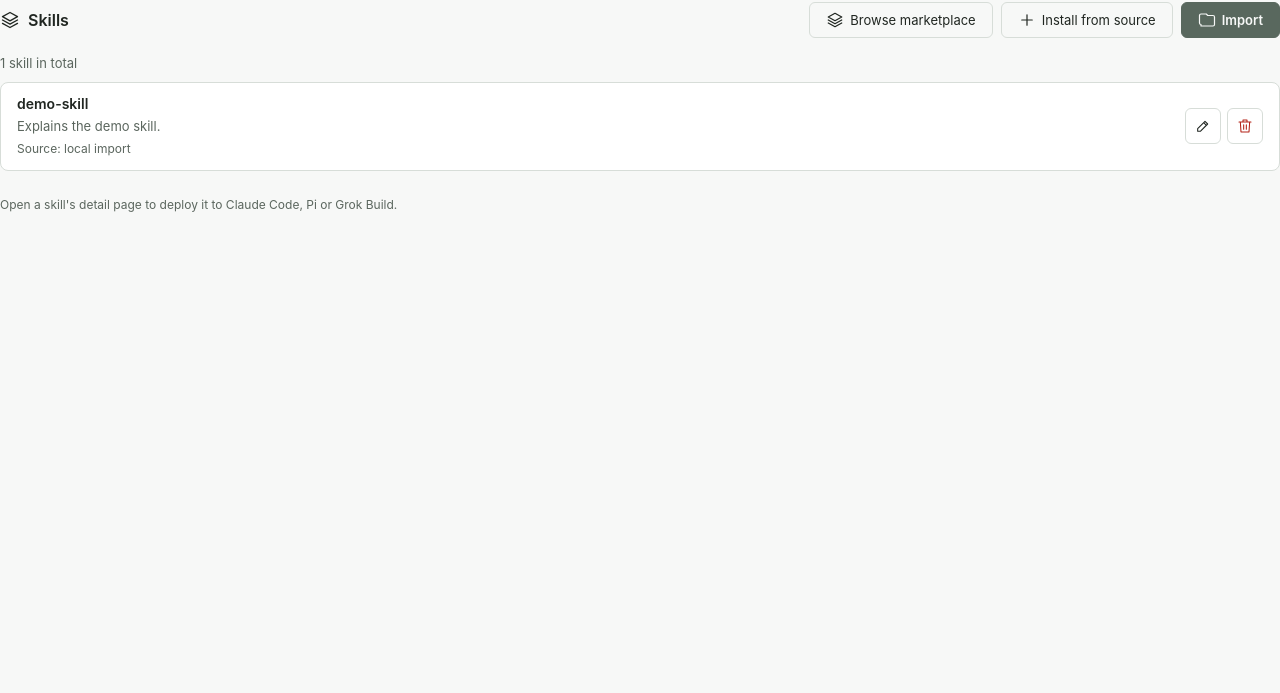
the deploy panel offers Claude Code and previews its own target
Step 1. Click the button named "Open details for demo-skill" → (1203, 126), box [1185,108,1221,144]
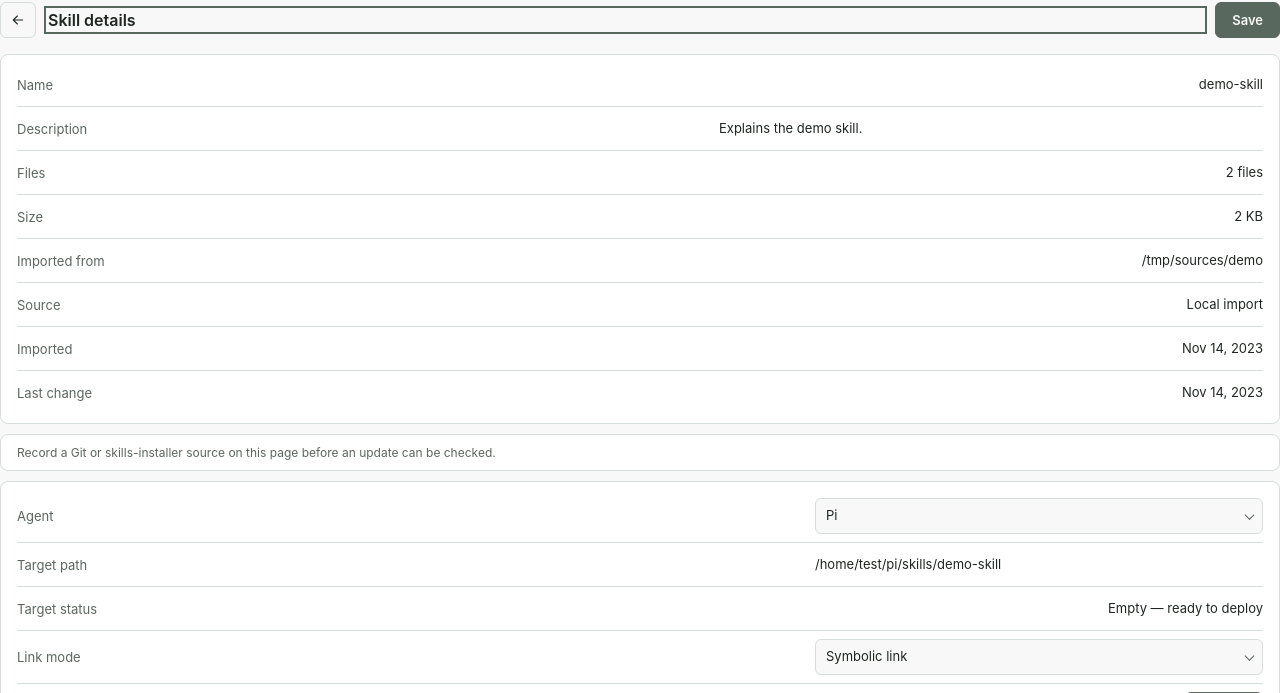
Now the text "/home/test/pi/skills/demo-skill" is shown, box [815,556,1001,572]
Step 2. Click the dropdown named "Agent" → (832, 515), box [815,498,1263,534]
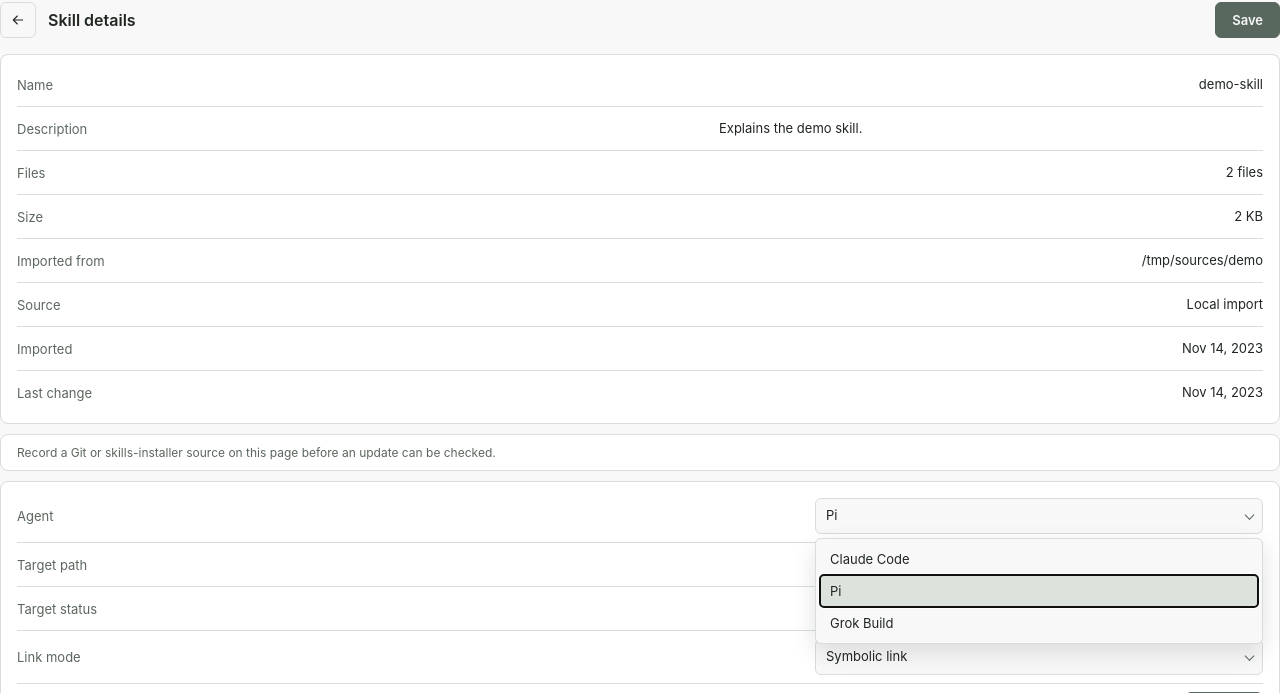
Step 3. Click the option "Claude Code" → (870, 559), box [830,551,910,567]
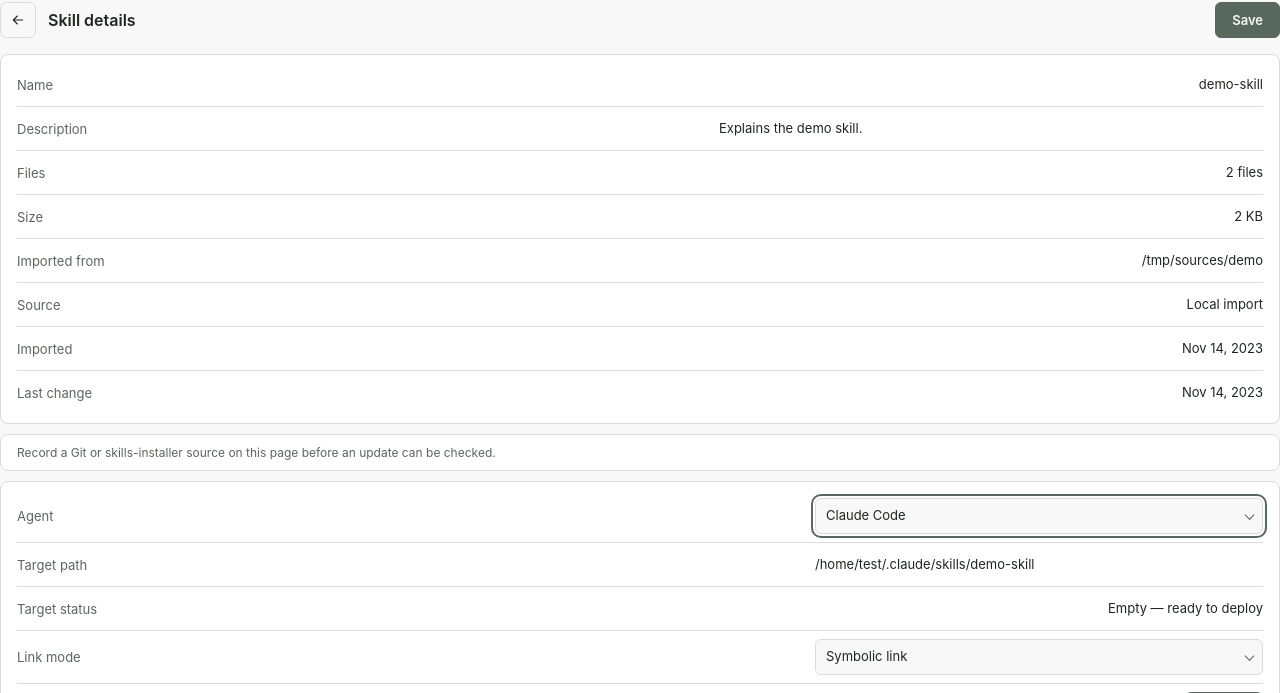
Now the text "/home/test/.claude/skills/demo-skill" is shown, box [815,556,1034,572]
